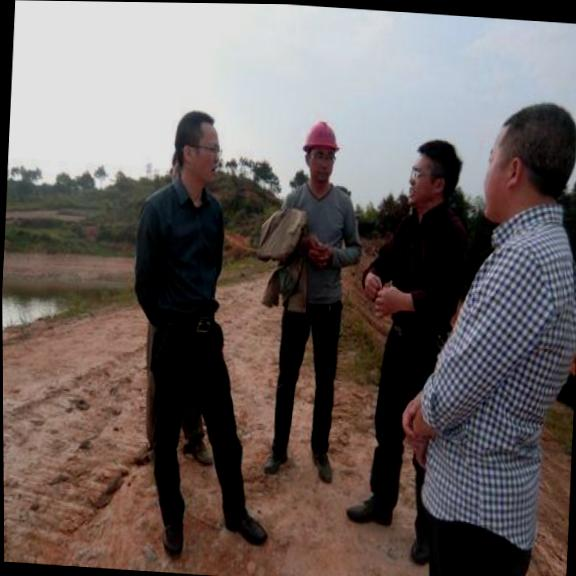no_safety_vest: (404, 209, 558, 434), (359, 206, 472, 331), (130, 181, 228, 321), (276, 180, 365, 305)
